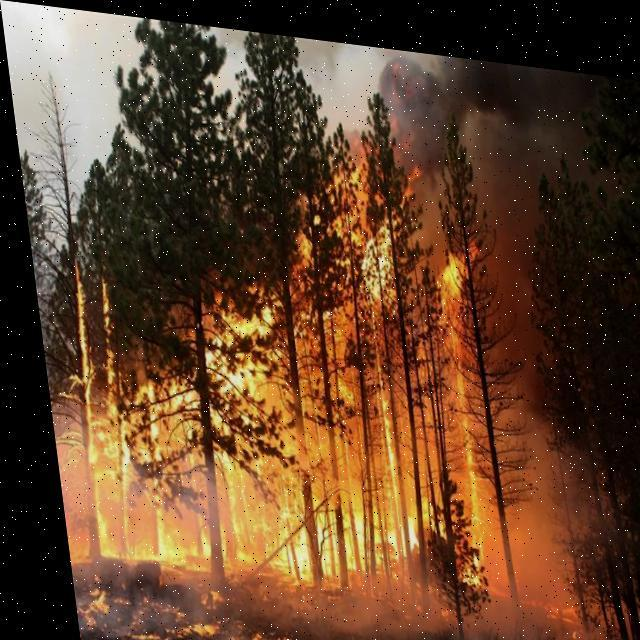Fire: (18, 77, 513, 639)
